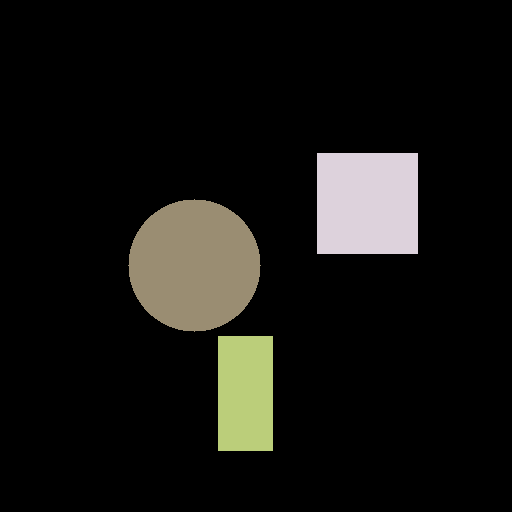circle: (128, 199, 260, 331)
rectangle: (218, 336, 272, 450)
square: (317, 153, 417, 253)
